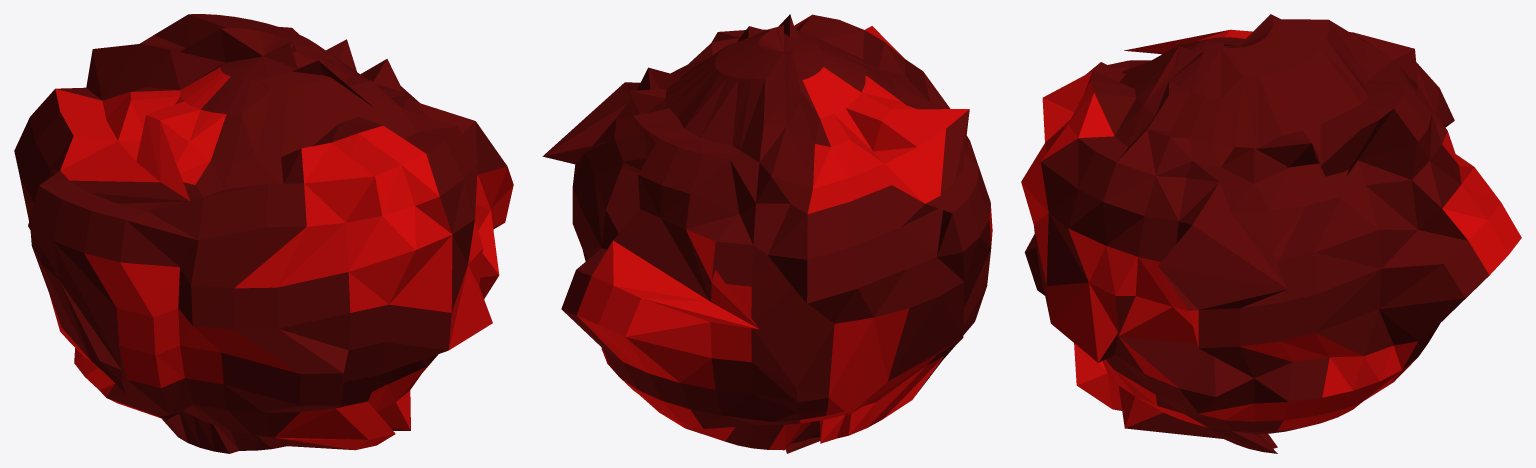
Rendered from asteroid.obj.
3 renders of one model, left to right at view 1: azimuth 30°, elevation 25°; view 2: azimuth 150°, elevation 25°; view 3: azimuth 270°, elevation 25°, orthographic. The views are drawn at different scales.
Parts seen in each view (by area): view 1: asteroid; view 2: asteroid; view 3: asteroid.
Boxes of the visible parts, x1=… form: asteroid: x1=14, y1=14, x2=513, y2=453; asteroid: x1=542, y1=14, x2=992, y2=453; asteroid: x1=1021, y1=14, x2=1521, y2=453.
Bounding box in the file's own units: 62.63 × 57.09 × 64.77.
